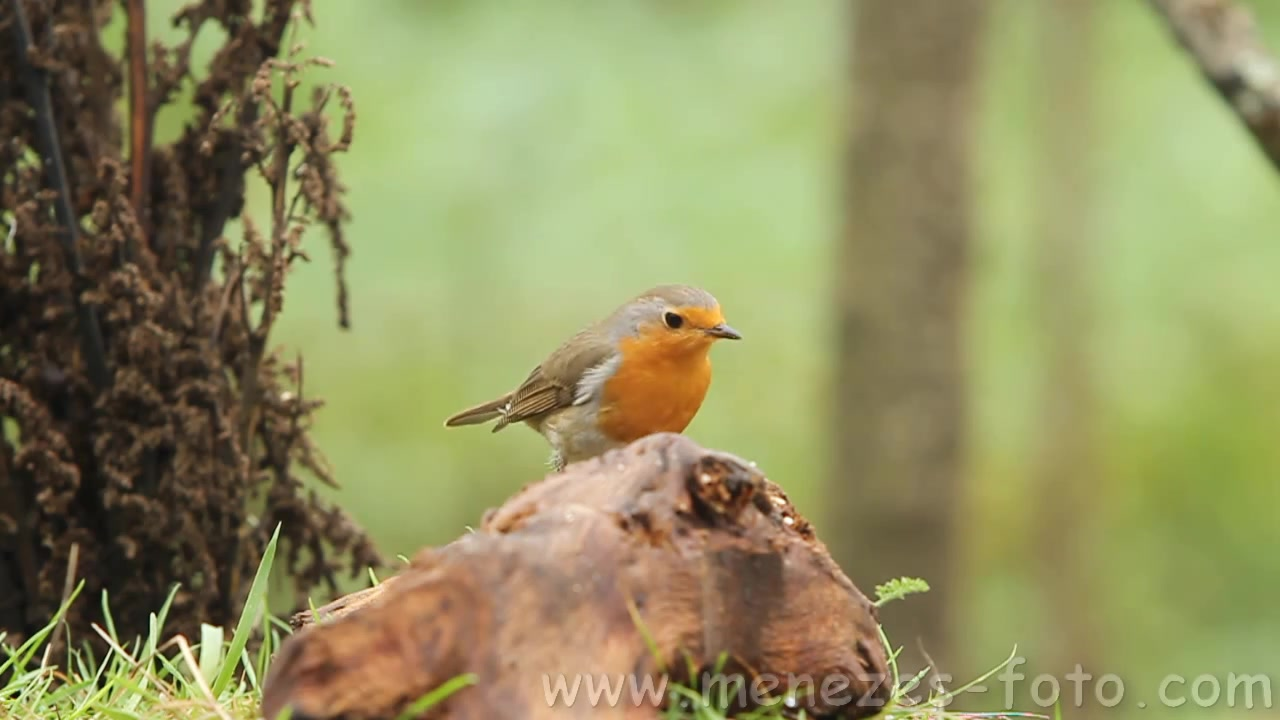bird: (444, 284, 744, 477)
